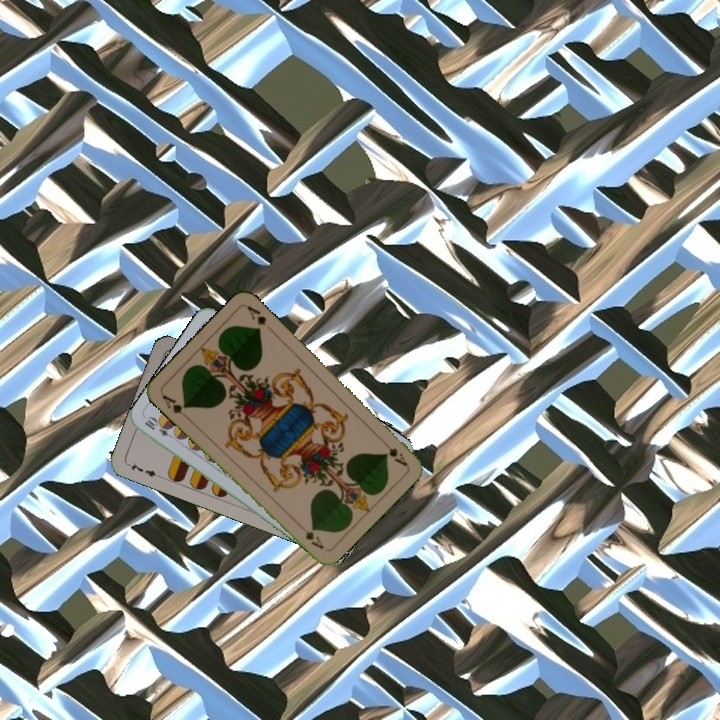E10: (141, 413, 179, 442)
E7: (124, 459, 163, 480)
GA: (377, 436, 410, 469), (158, 391, 189, 416)
